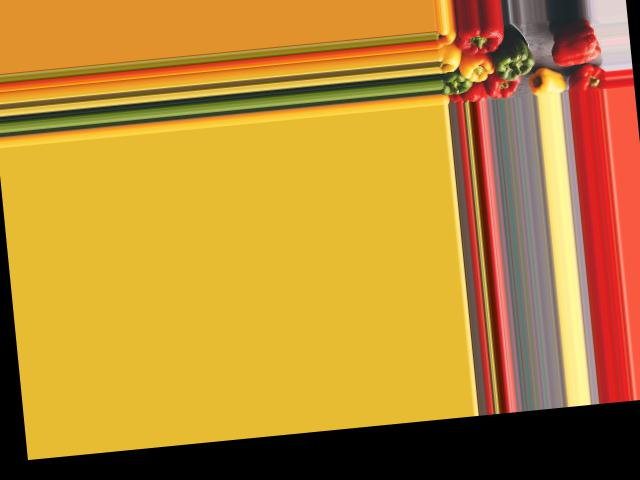bell_pepper: (566, 63, 607, 89)
